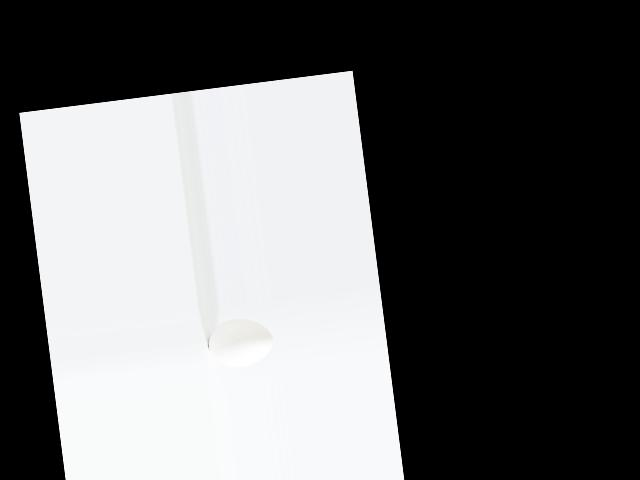egg: (205, 315, 276, 370)
